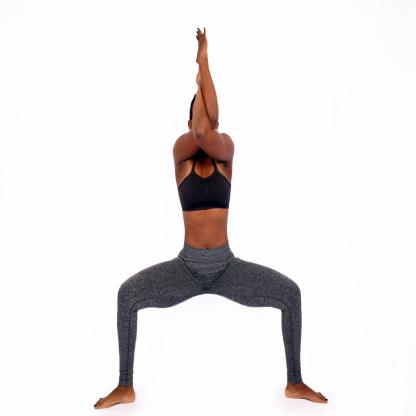godness: (90, 21, 327, 416)
